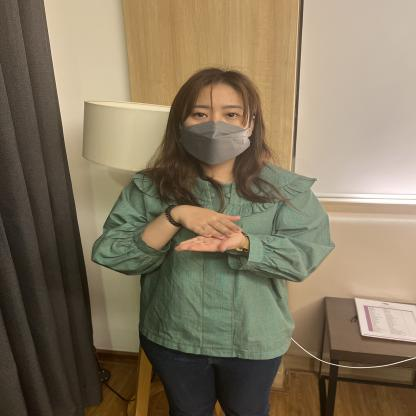Love: (121, 175, 341, 289)
